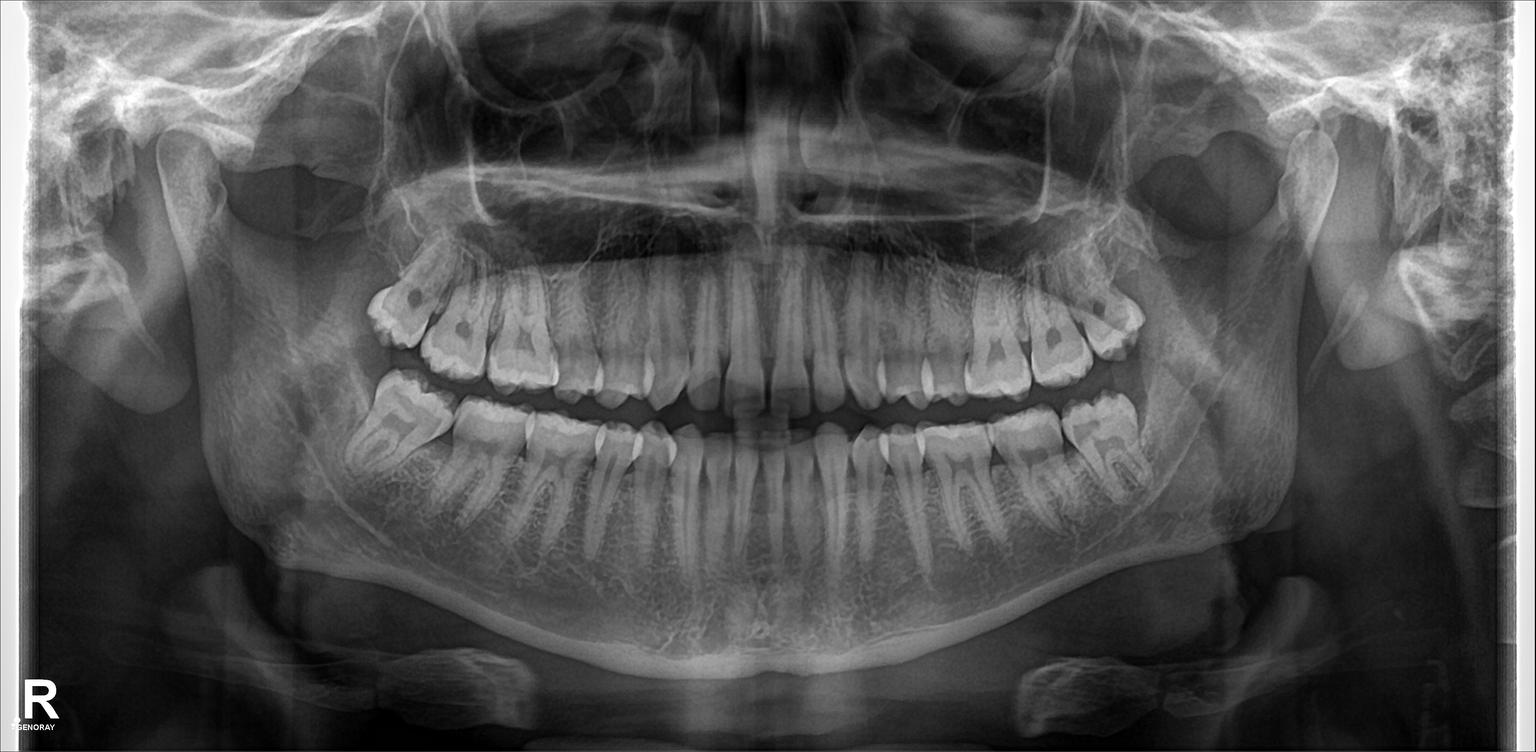Impacted Third Molar: (353, 382, 450, 477)
